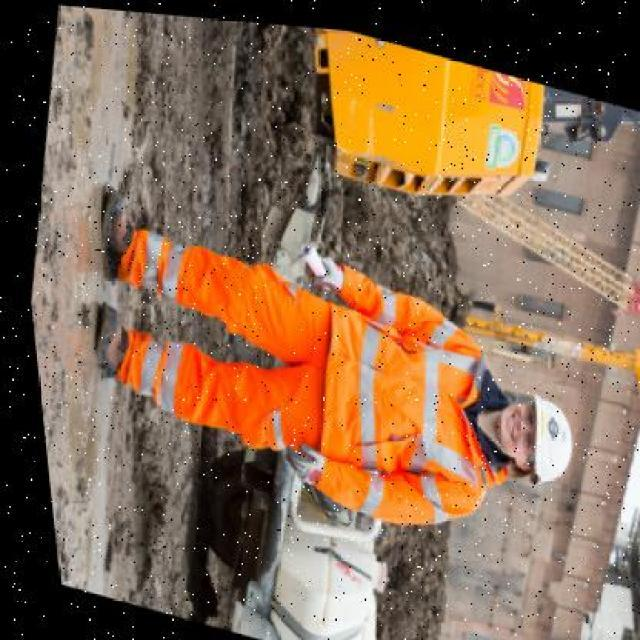helmet: (500, 363, 578, 499)
vest: (239, 251, 518, 538)
